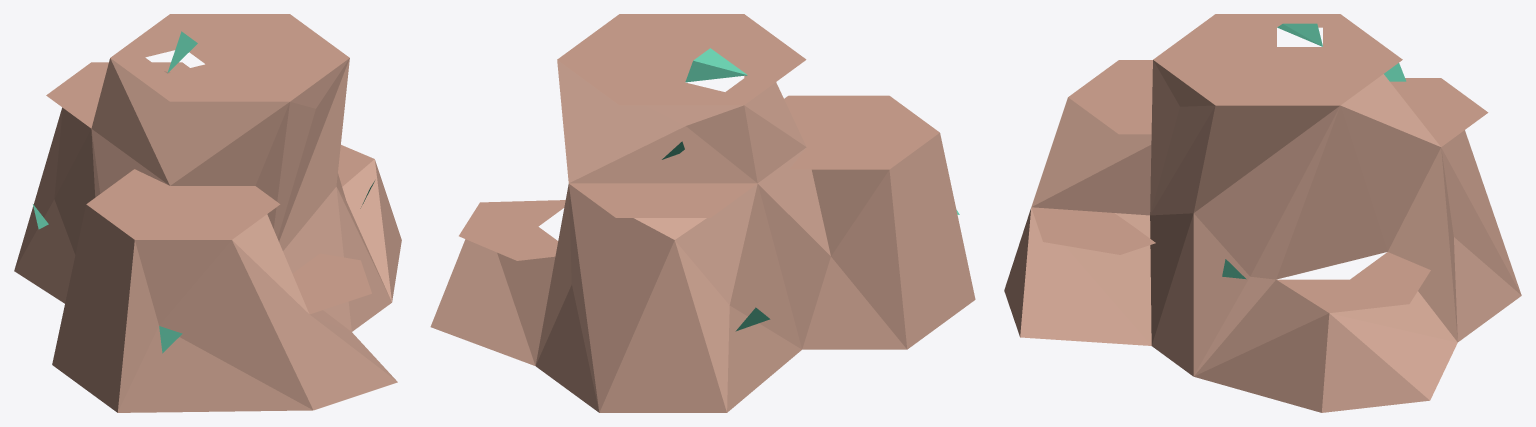
The model's file is rock_crystalsLargeA.lod.glb.
3 renders of one model, left to right at view 1: azimuth 30°, elevation 25°; view 2: azimuth 150°, elevation 25°; view 3: azimuth 270°, elevation 25°, orthographic. The views are drawn at different scales.
Parts seen in each view (by area): view 1: rock_crystalsLargeA; view 2: rock_crystalsLargeA; view 3: rock_crystalsLargeA.
Boxes of the visible parts, x1,y1,x2,y2 form: rock_crystalsLargeA: [14, 14, 401, 412]; rock_crystalsLargeA: [430, 14, 975, 412]; rock_crystalsLargeA: [1004, 14, 1521, 412].
Size of the model in its own units: 0.8339 by 0.541 by 0.9193.
